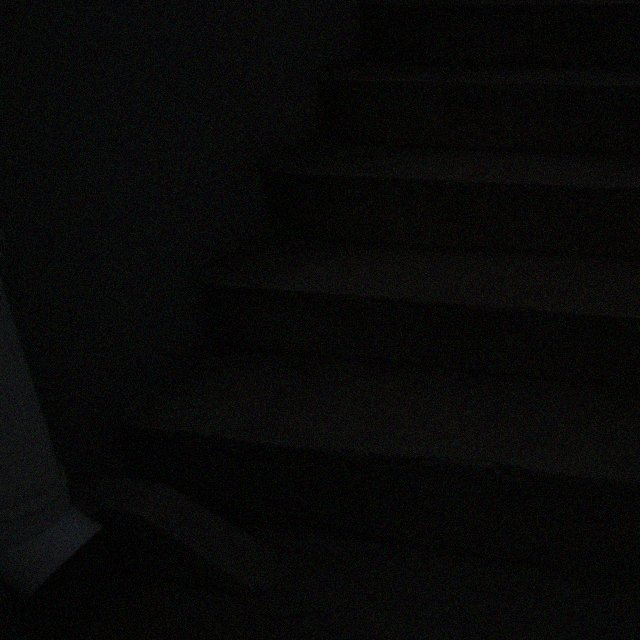stair: (123, 0, 639, 577)
